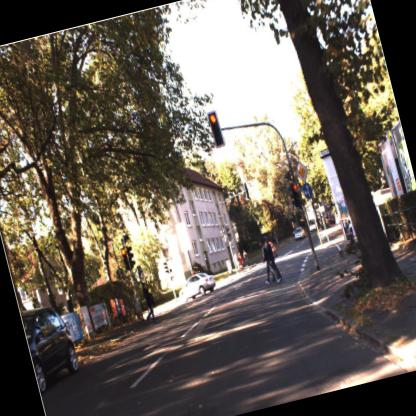mandatory: (298, 178, 317, 202)
other: (293, 158, 312, 184)
